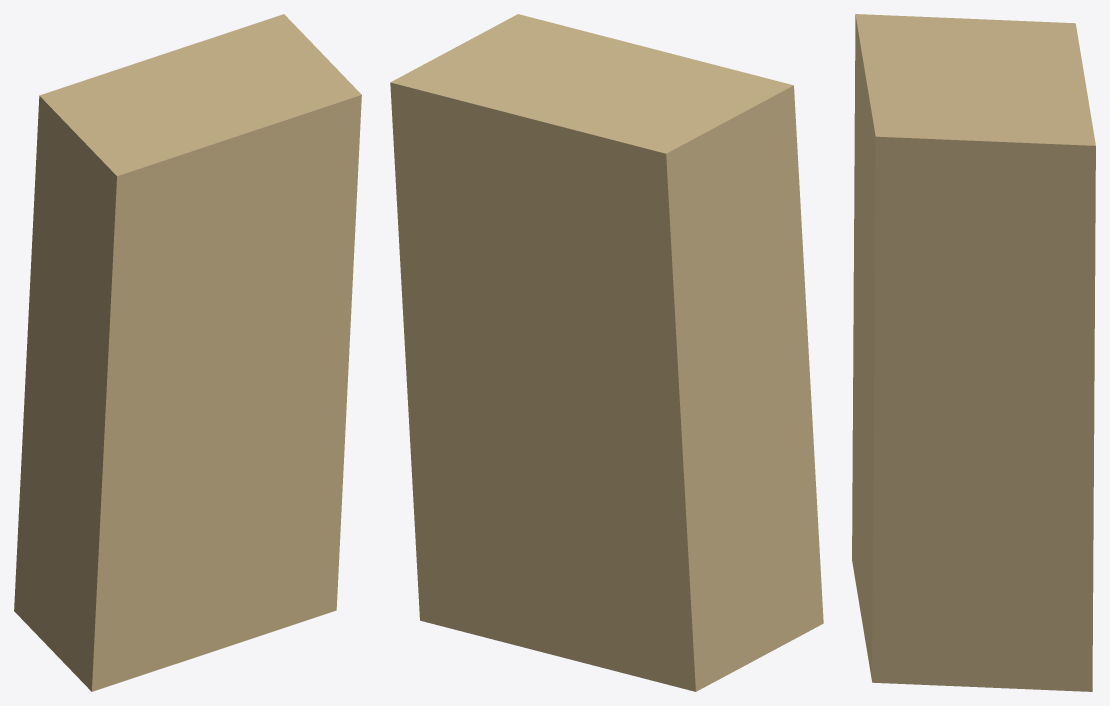
Rendered from column.dae.
The picture shows the model from 3 angles, left to right: view 1: azimuth 30°, elevation 25°; view 2: azimuth 150°, elevation 25°; view 3: azimuth 270°, elevation 25°; orthographic projection. The views are drawn at different scales.
Parts seen in each view (by area): view 1: Cube; view 2: Cube; view 3: Cube.
Boxes of the visible parts, <box> form: Cube: <box>14,14,361,691</box>; Cube: <box>390,14,823,691</box>; Cube: <box>852,14,1095,691</box>.
Size of the model in its own units: 4.1 by 2.59 by 6.76.
